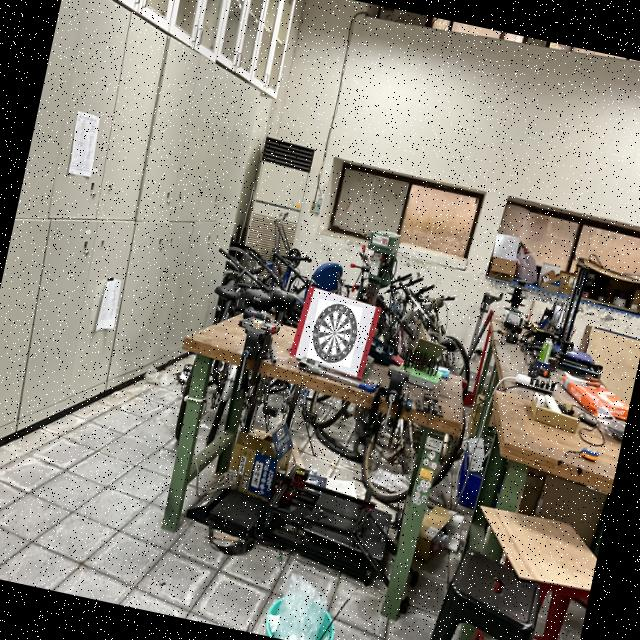archery-targets: (306, 298, 362, 367)
